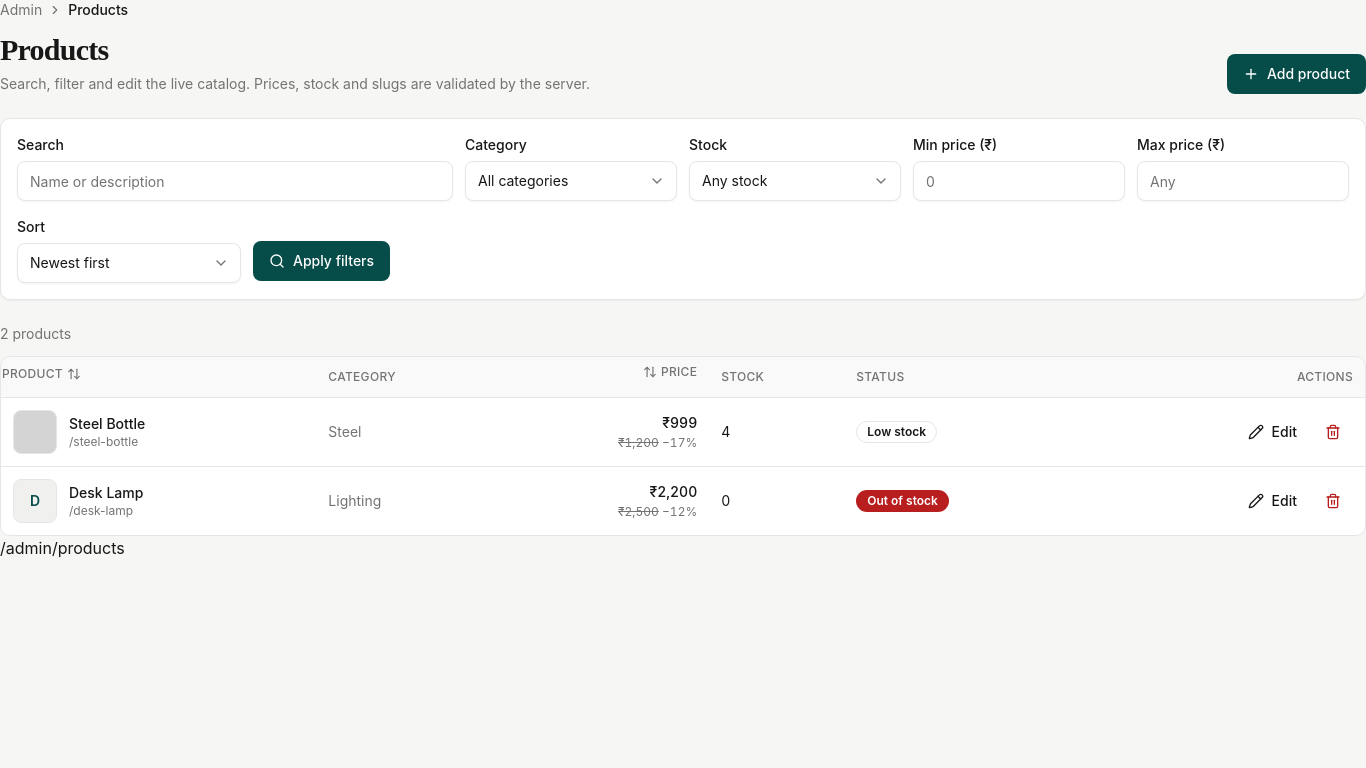
Test: AdminProductsPage › keeps the product when deletion fails
This screenshot has width=1366, height=768.
Click the button named "Delete Steel Bottle" at x=1333, y=432, box [1313,412,1353,452]
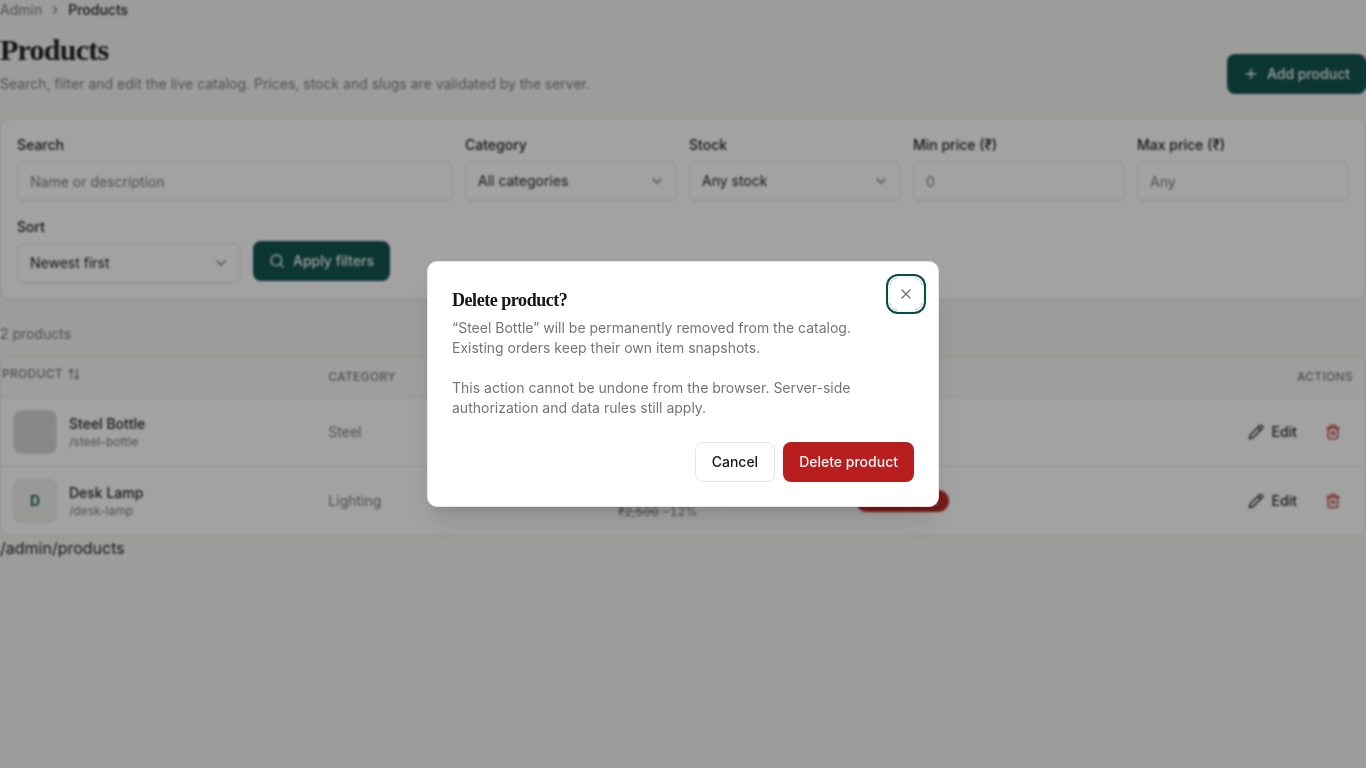
Click the button "Delete product" at x=849, y=462, box [783,442,914,482]
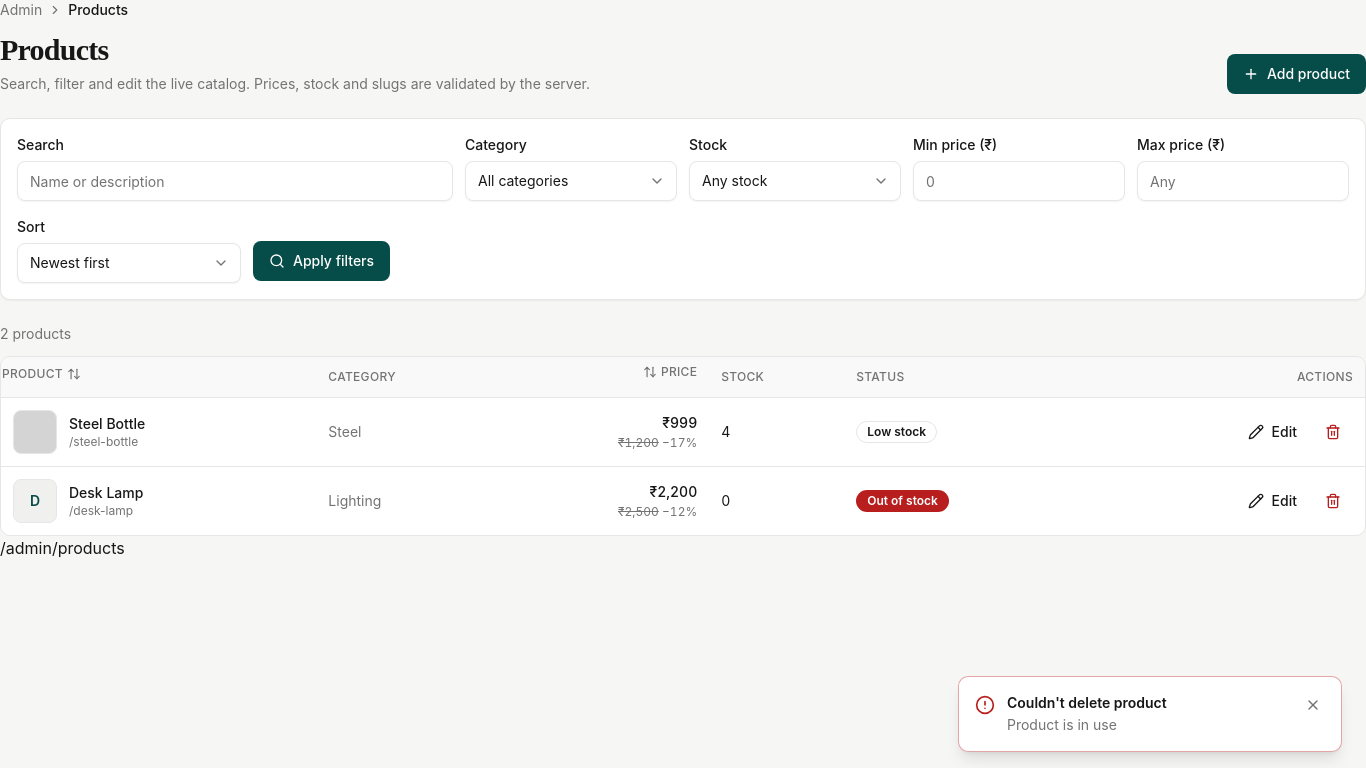
Now the text "Couldn't delete product" is shown, box [1007,694,1167,711]
Now the text "Product is in use" is shown, box [1007,716,1117,733]
